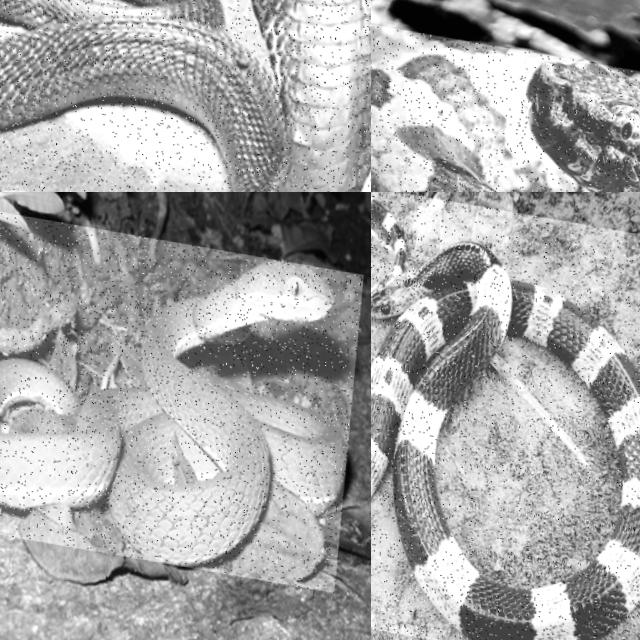Bungarus candidus: (371, 199, 639, 639)
Ophiophagus hannah: (0, 0, 370, 191)
Ovophis monticola: (371, 43, 639, 191)
Trimeresurus: (0, 261, 347, 565)
